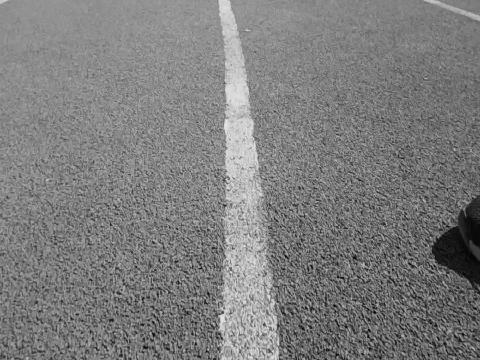Lines: (219, 0, 280, 360)
